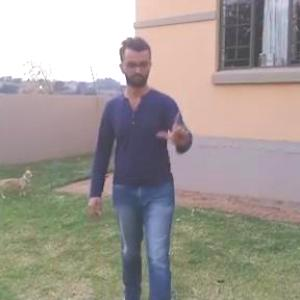land_hand: (155, 104, 196, 150)
